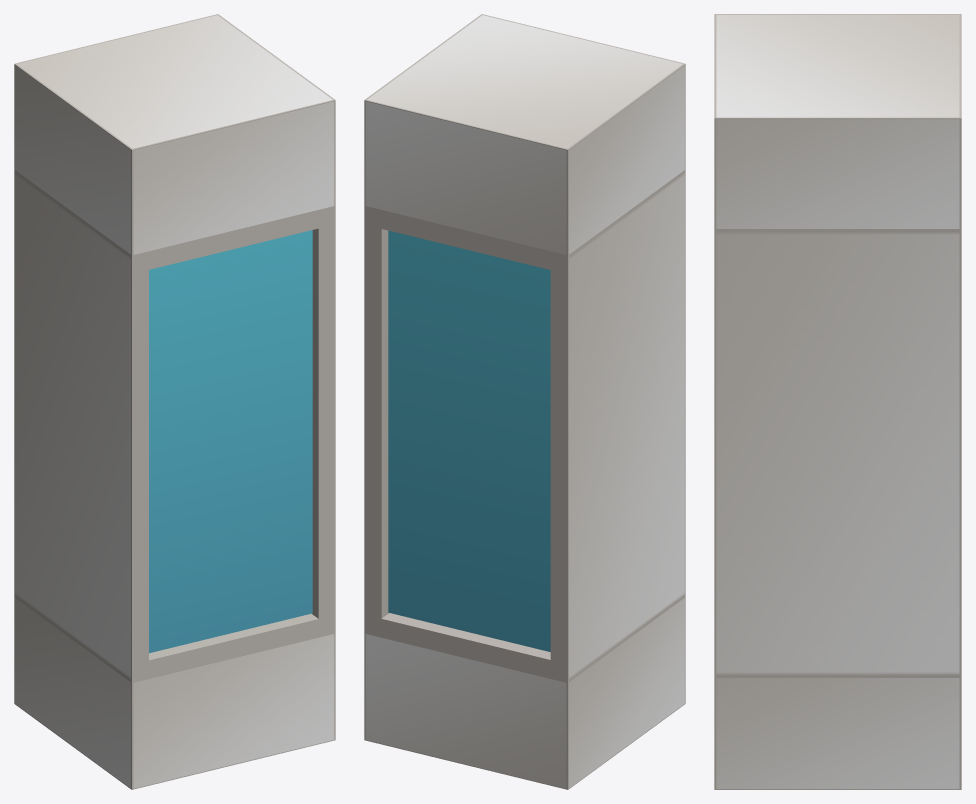
Rendered from scene_window_one.fbx.
The picture shows the model from 3 angles, left to right: view 1: azimuth 30°, elevation 25°; view 2: azimuth 150°, elevation 25°; view 3: azimuth 270°, elevation 25°; orthographic projection. The views are drawn at different scales.
Parts seen in each view (by area): view 1: mesh_wall_window_one, mesh_alpha; view 2: mesh_wall_window_one, mesh_alpha; view 3: mesh_wall_window_one.
Boxes of the visible parts, x1,y1,x2,y2 form: mesh_wall_window_one: [14, 14, 335, 789]; mesh_alpha: [149, 230, 312, 653]; mesh_wall_window_one: [364, 14, 685, 789]; mesh_alpha: [388, 230, 550, 651]; mesh_wall_window_one: [714, 14, 961, 789].
Bounding box in the file's own units: 1 × 3 × 1.
Materials: 2 (1 with a texture image).
